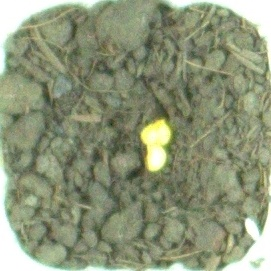chilli seed: (138, 118, 173, 147), (144, 140, 168, 174)
